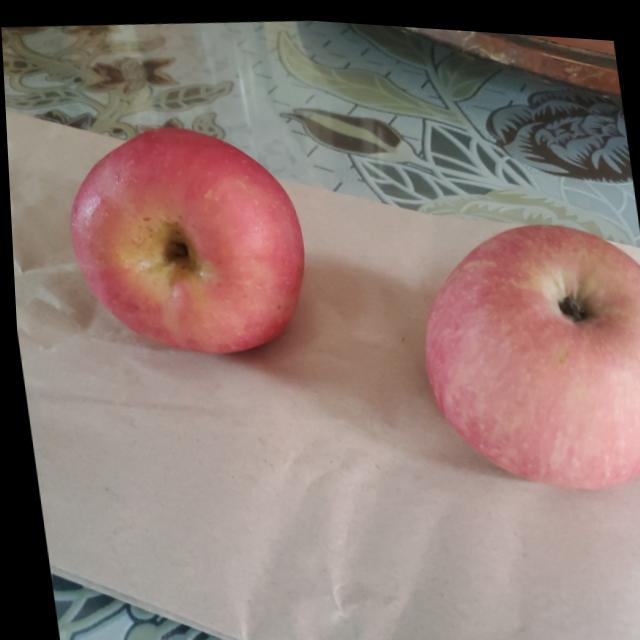apple: (407, 199, 640, 497), (51, 111, 318, 371)
